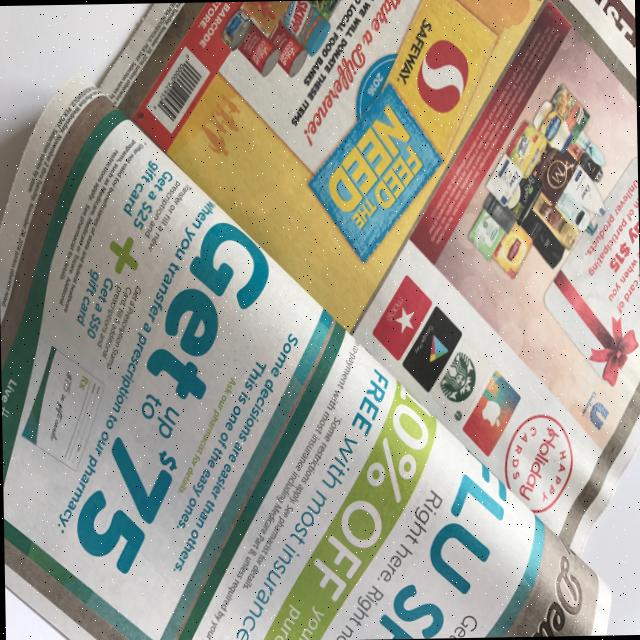paper: (0, 65, 612, 640)
